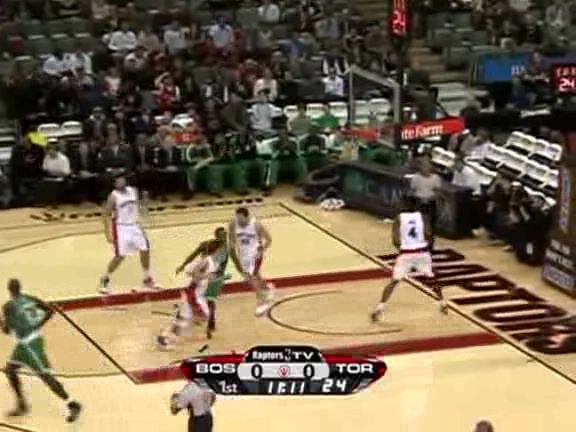person: (196, 230, 230, 311), (195, 230, 229, 311), (197, 230, 231, 311), (196, 229, 230, 310), (196, 231, 230, 312)
target_negative: (299, 35, 447, 411), (89, 63, 180, 337), (298, 306, 477, 388), (328, 270, 408, 420), (494, 86, 503, 389), (437, 112, 488, 132)
